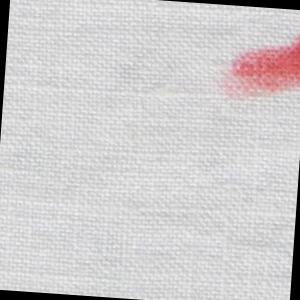Stain: (215, 29, 300, 112)
